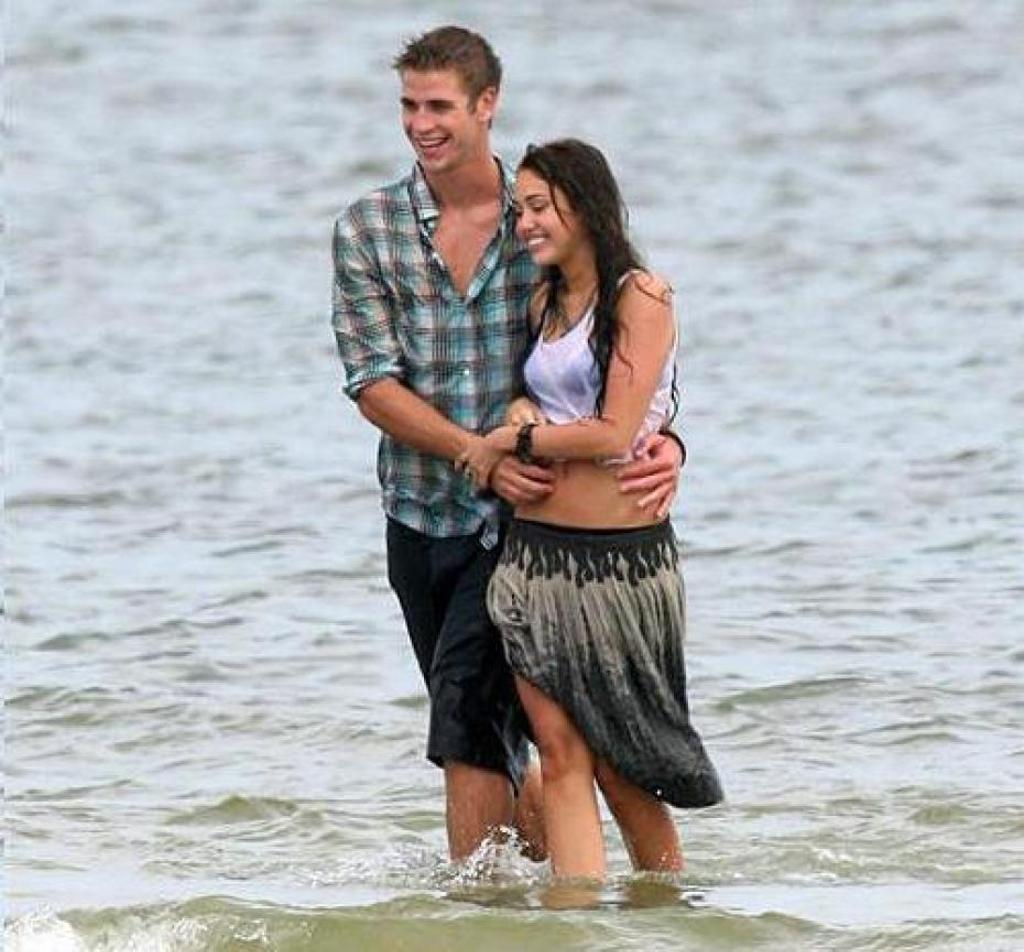face: (400, 72, 472, 172), (514, 172, 570, 266)
